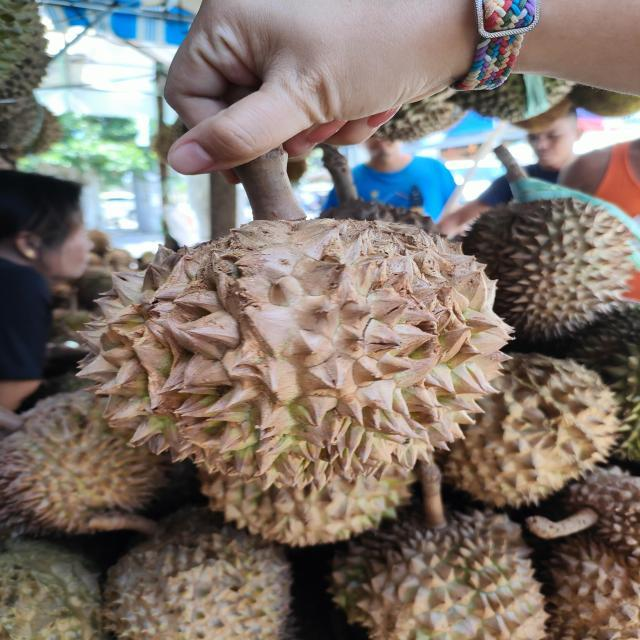mature: (80, 217, 519, 487), (432, 195, 638, 349), (423, 350, 626, 501), (0, 389, 182, 532)
